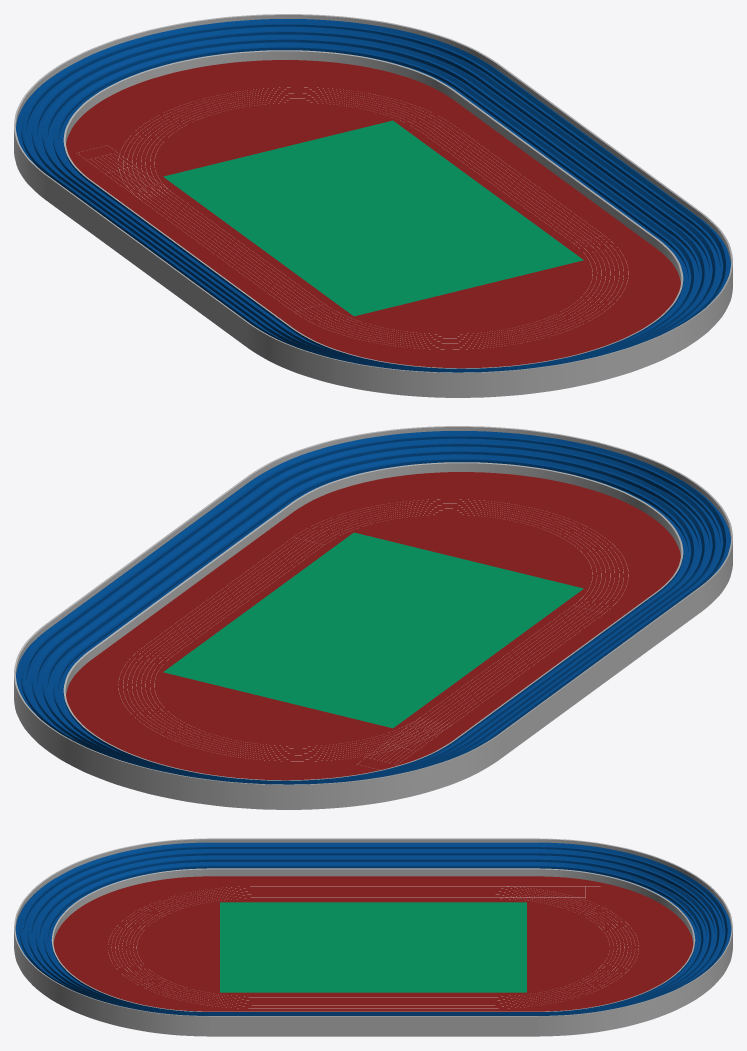
Rendered from Sample_Trackmodel.fbx.
The picture shows the model from 3 angles, top to bottom: view 1: azimuth 30°, elevation 25°; view 2: azimuth 150°, elevation 25°; view 3: azimuth 270°, elevation 25°; orthographic projection. The views are drawn at different scales.
Parts seen in each view (by area): view 1: Sample_Trackmodel; view 2: Sample_Trackmodel; view 3: Sample_Trackmodel.
Boxes of the visible parts, x1=… form: Sample_Trackmodel: x1=14, y1=14, x2=732, y2=397; Sample_Trackmodel: x1=14, y1=426, x2=732, y2=809; Sample_Trackmodel: x1=14, y1=838, x2=732, y2=1036.
Bounding box in the file's own units: 13907 × 730 × 23734.
